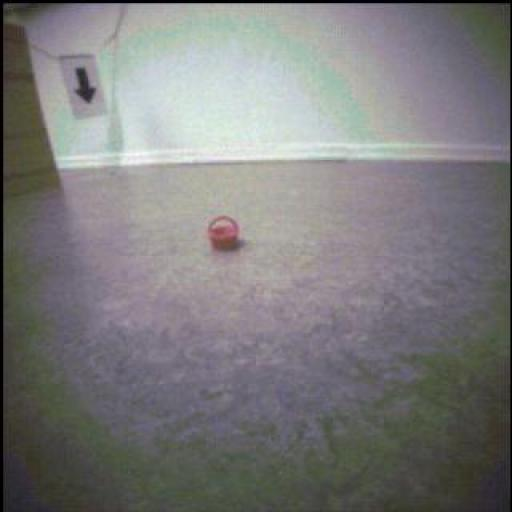Arrow: (76, 69, 97, 104)
Bucket: (206, 215, 243, 256)
